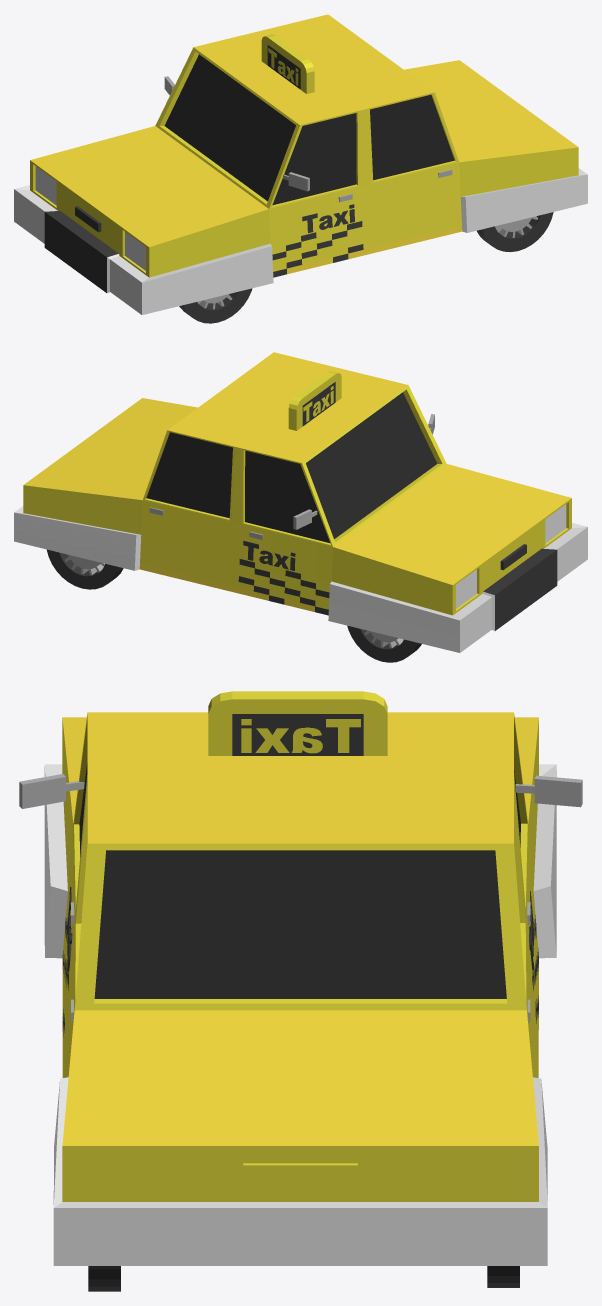
The model's file is Taxi.fbx.
The picture shows the model from 3 angles, top to bottom: view 1: azimuth 30°, elevation 25°; view 2: azimuth 150°, elevation 25°; view 3: azimuth 270°, elevation 25°; orthographic projection. The views are drawn at different scales.
Parts seen in each view (by area): view 1: Cube.043, Cube.044, Tire.041, Tire.040, Text.001, Spoke.041; view 2: Cube.043, Cube.044, Tire.043, Tire.042, Text.002, Spoke.043; view 3: Cube.043, Cube.044, Text, Cube.045, Cube.046, Tire.041.
Part boxes in pixels (<box>): Cube.043: <box>14,14,587,314</box>; Cube.044: <box>261,34,314,93</box>; Tire.041: <box>477,212,553,252</box>; Tire.040: <box>179,288,252,323</box>; Text.001: <box>302,204,354,233</box>; Spoke.041: <box>495,216,537,237</box>; Cube.043: <box>14,352,587,652</box>; Cube.044: <box>288,371,341,430</box>; Tire.043: <box>47,549,123,589</box>; Tire.042: <box>347,625,421,662</box>; Text.002: <box>243,541,295,570</box>; Spoke.043: <box>64,554,104,575</box>; Cube.043: <box>44,712,556,1265</box>; Cube.044: <box>208,691,387,755</box>; Text: <box>241,719,360,753</box>; Cube.045: <box>515,775,582,807</box>; Cube.046: <box>19,774,84,808</box>; Tire.041: <box>88,1266,120,1291</box>.
Size of the model in its own units: 381 by 168 by 207.
